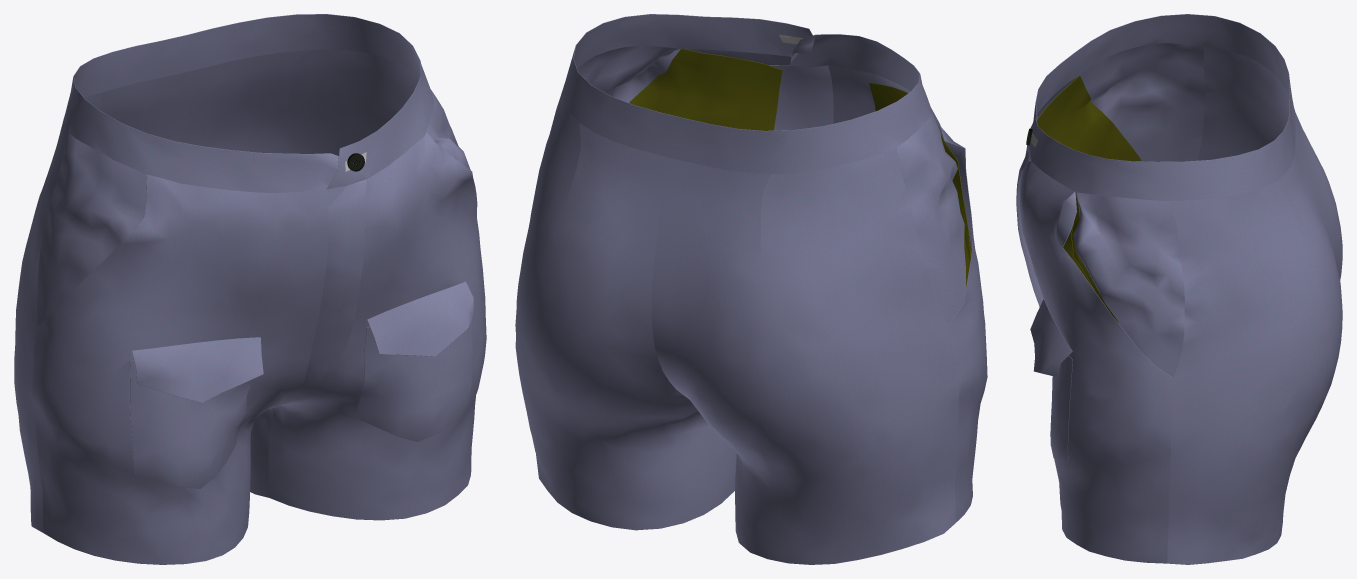
The picture shows the model from 3 angles, left to right: view 1: azimuth 30°, elevation 25°; view 2: azimuth 150°, elevation 25°; view 3: azimuth 270°, elevation 25°; orthographic projection. The views are drawn at different scales.
Parts seen in each view (by area): view 1: Pattern2D_3956468, Pattern2D_3956717, OPC00WAB4, Pattern2D_3961243, Pattern2D_766543, Pattern2D_3961019, Pattern2D_5340182, Pattern2D_5340181, FLL_3, Pattern2D_5340184, Pattern2D_5340183, Pattern2D_766545; view 2: Pattern2D_3961019, Pattern2D_3961243, OPC00WAB4, Pattern2D_3956468, Pattern2D_766546, Pattern2D_766543, Pattern2D_766545, FLF_1, Pattern2D_5340179, Pattern2D_3956717, Pattern2D_5340180; view 3: Pattern2D_3961243, Pattern2D_3956717, OPC00WAB4, Pattern2D_766545, Pattern2D_766543, Pattern2D_3961019, Pattern2D_5340179, Pattern2D_5340183, Pattern2D_5340181, FLL_3, Pattern2D_766546.
Boxes of the visible parts, box(x1,y1,x2,y2) form: Pattern2D_3956468: box(31, 174, 328, 564); Pattern2D_3956717: box(268, 132, 486, 520); OPC00WAB4: box(64, 14, 433, 192); Pattern2D_3961243: box(179, 49, 418, 497); Pattern2D_766543: box(37, 133, 146, 325); Pattern2D_3961019: box(14, 69, 198, 532); Pattern2D_5340182: box(130, 360, 252, 488); Pattern2D_5340181: box(356, 322, 472, 441); FLL_3: box(301, 179, 366, 389); Pattern2D_5340184: box(132, 337, 263, 402); Pattern2D_5340183: box(367, 281, 473, 356); Pattern2D_766545: box(417, 75, 470, 169); Pattern2D_3961019: box(651, 148, 959, 564); Pattern2D_3961243: box(515, 63, 736, 530); OPC00WAB4: box(562, 14, 931, 174); Pattern2D_3956468: box(828, 65, 987, 522); Pattern2D_766546: box(629, 48, 782, 130); Pattern2D_766543: box(896, 108, 965, 325); Pattern2D_766545: box(579, 45, 680, 102); FLF_1: box(769, 65, 833, 130); Pattern2D_5340179: box(869, 83, 970, 287); Pattern2D_3956717: box(685, 49, 829, 68); Pattern2D_5340180: box(869, 82, 971, 262); Pattern2D_3961243: box(1167, 141, 1342, 564); Pattern2D_3956717: box(1019, 148, 1173, 563); OPC00WAB4: box(1028, 14, 1295, 201); Pattern2D_766545: box(1073, 190, 1184, 377); Pattern2D_766543: box(1080, 43, 1205, 161); Pattern2D_3961019: box(1197, 45, 1342, 280); Pattern2D_5340179: box(1037, 75, 1141, 161); Pattern2D_5340183: box(1030, 299, 1072, 377); Pattern2D_5340181: box(1050, 356, 1072, 462); FLL_3: box(1016, 152, 1043, 306); Pattern2D_766546: box(1071, 195, 1118, 323).
Bounding box in the file's own units: 40.98 × 40.45 × 29.33.
